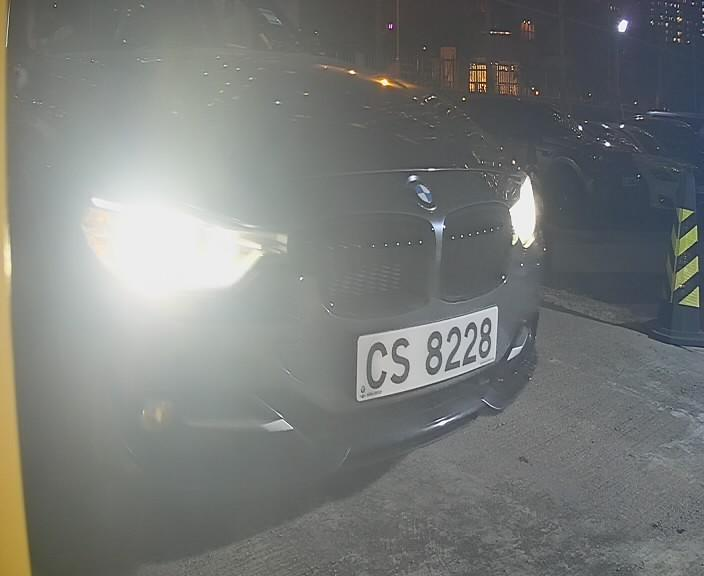Car: (19, 6, 617, 517)
License Plate: (349, 301, 503, 399)
